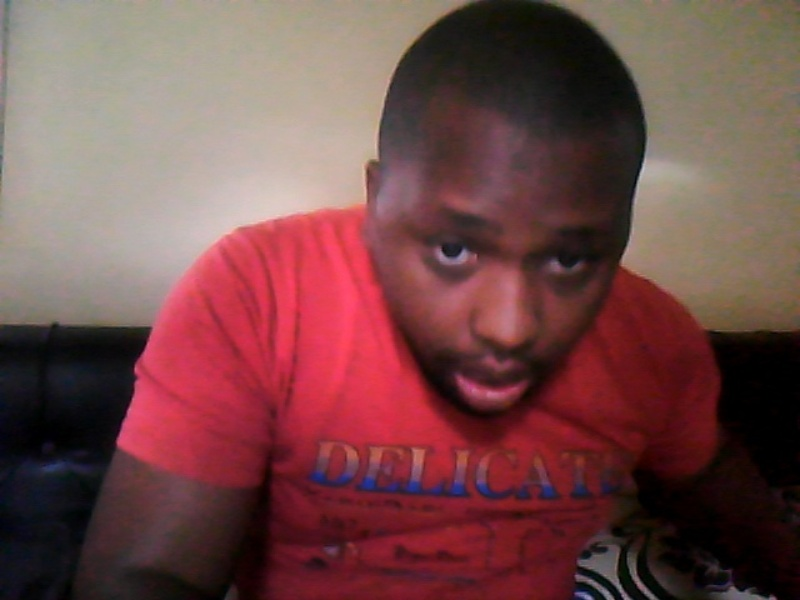TsisyArotava: (345, 8, 654, 440)
